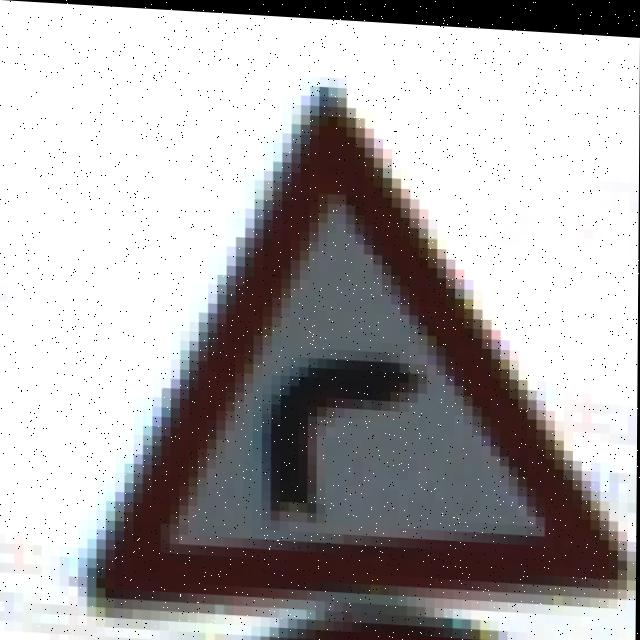right_turn: (105, 122, 639, 610)
